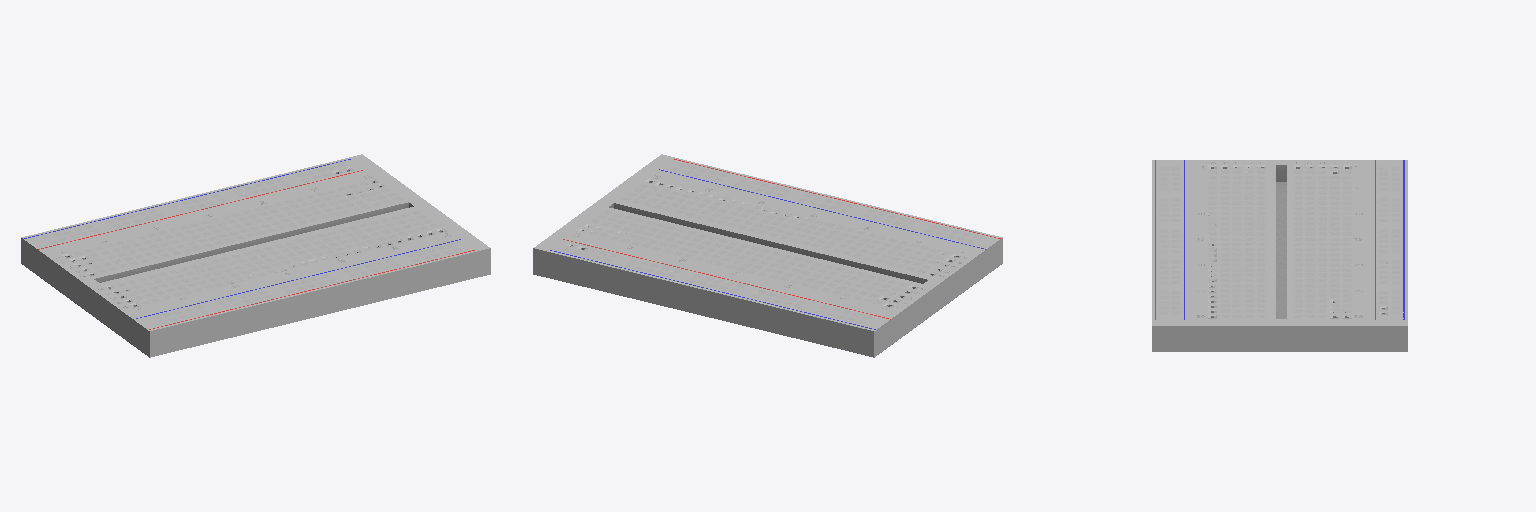
The picture shows the model from 3 angles: view 1: azimuth 30°, elevation 25°; view 2: azimuth 150°, elevation 25°; view 3: azimuth 270°, elevation 25°; orthographic projection.
Visible parts, largest first — view 1: Cube; view 2: Cube; view 3: Cube.
Part boxes in pixels (x1,y1,x2,y2): Cube: (21,154,490,357); Cube: (533,154,1002,357); Cube: (1152,160,1407,351).
Bounding box in the file's own units: 8.51 × 0.6271 × 5.54.
1 materials, 1 textured.